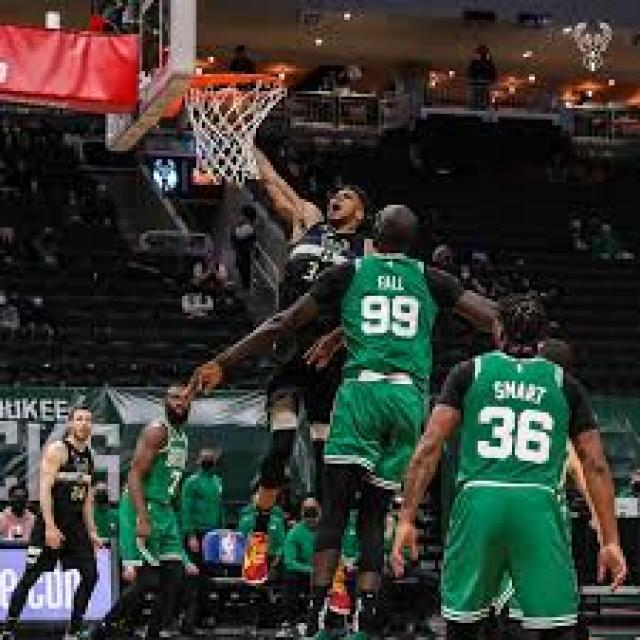rim: (213, 85, 253, 128)
